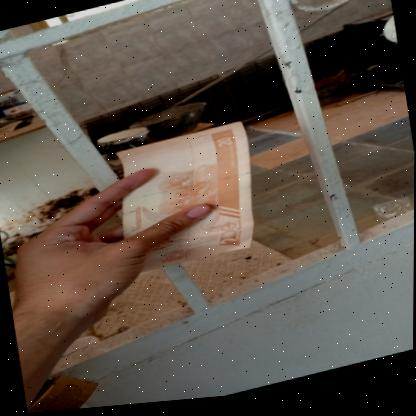twenty-back-vef: (108, 122, 263, 281)
